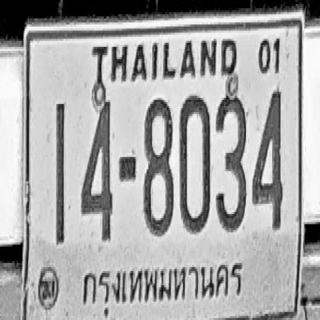N00: (179, 94, 210, 232)
N01: (55, 102, 65, 243)
N03: (215, 90, 246, 230)
N04: (81, 90, 113, 240), (252, 87, 283, 229)
N08: (143, 96, 173, 234)
P04: (77, 255, 248, 316)
